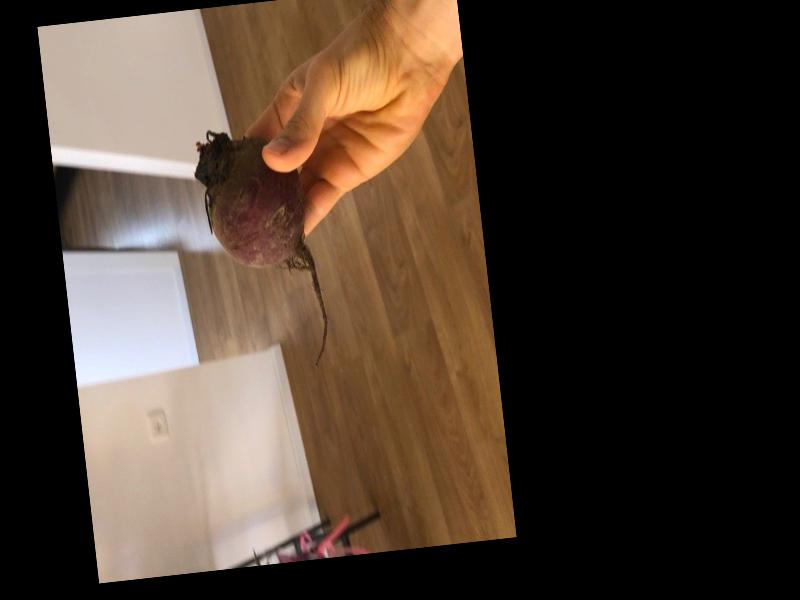Beet: (191, 123, 331, 378)
